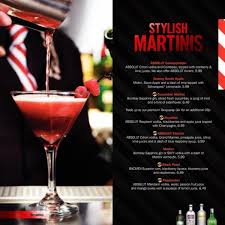not-coke: (9, 73, 105, 220)
